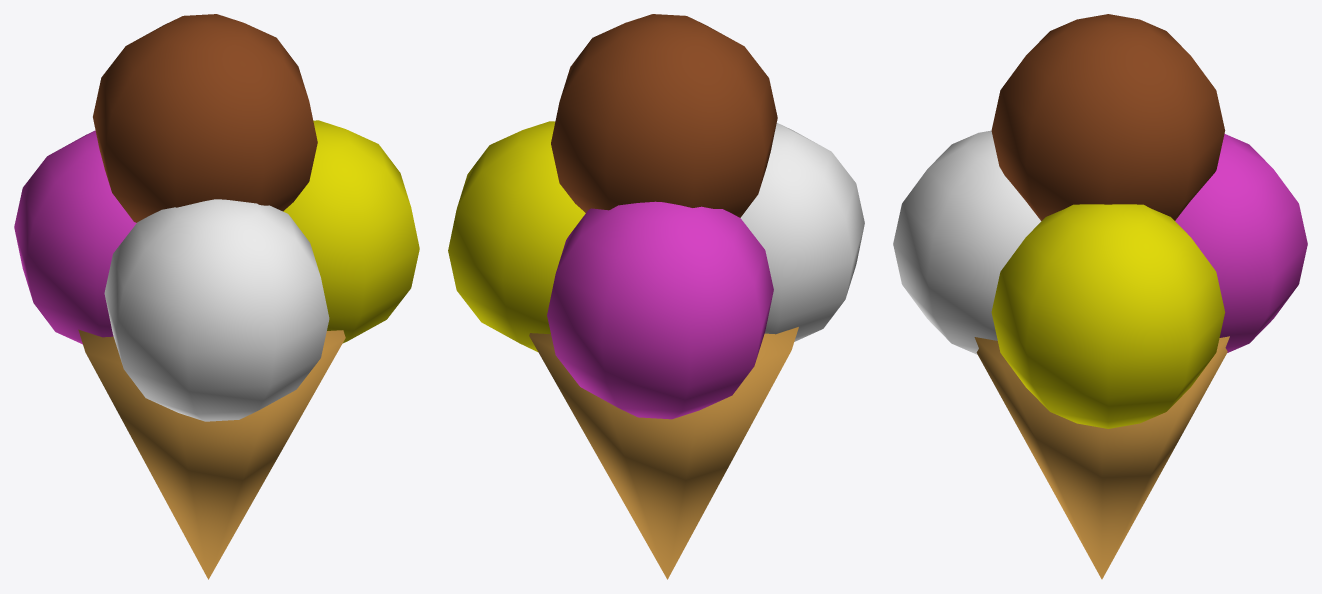
Rendered from ice_cream.fbx.
3 views of the same model, side by side, from view 1: azimuth 30°, elevation 25°; view 2: azimuth 150°, elevation 25°; view 3: azimuth 270°, elevation 25° (orthographic).
Parts seen in each view (by area): view 1: Sphere_002, Sphere_003, Cylinder, Sphere_001, Sphere; view 2: Sphere, Sphere_003, Cylinder, Sphere_001, Sphere_002; view 3: Sphere_001, Sphere_003, Sphere_002, Cylinder, Sphere.
Part boxes in pixels (bbox=[...]): Sphere_002: bbox=[104, 199, 329, 421]; Sphere_003: bbox=[93, 14, 317, 222]; Cylinder: bbox=[78, 329, 345, 579]; Sphere_001: bbox=[283, 120, 419, 343]; Sphere: bbox=[14, 130, 136, 344]; Sphere: bbox=[547, 201, 773, 419]; Sphere_003: bbox=[551, 14, 777, 217]; Cylinder: bbox=[529, 327, 798, 579]; Sphere_001: bbox=[448, 121, 585, 351]; Sphere_002: bbox=[740, 123, 864, 341]; Sphere_001: bbox=[991, 204, 1225, 428]; Sphere_003: bbox=[991, 14, 1225, 220]; Sphere_002: bbox=[893, 130, 1041, 354]; Cylinder: bbox=[974, 336, 1229, 579]; Sphere: bbox=[1175, 134, 1307, 352].
Bounding box in the file's own units: 0.7458 × 1.16 × 0.7829.
